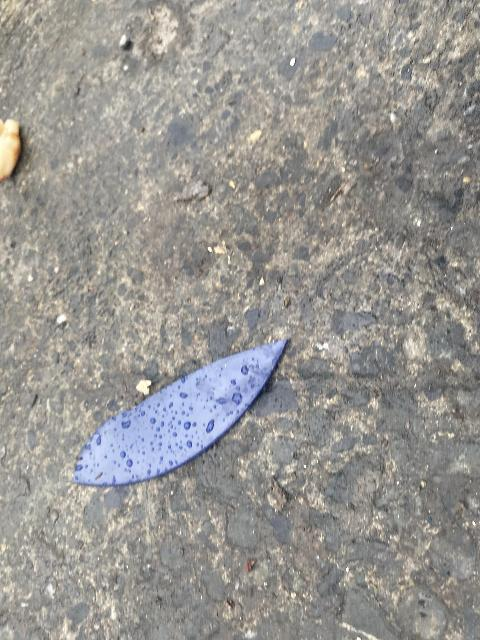Plastik: (68, 325, 297, 498)
